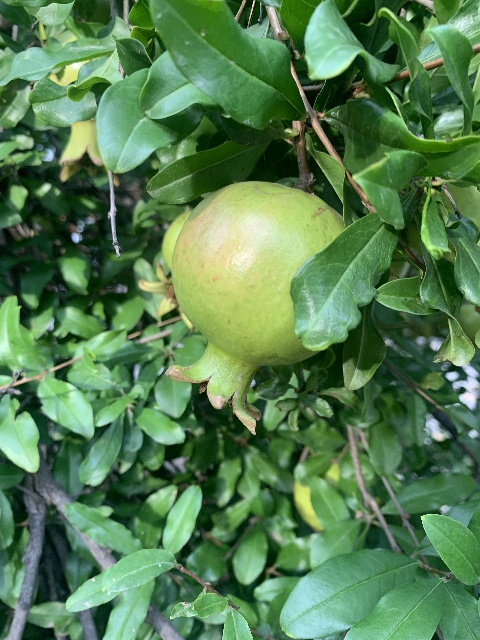mid-growth: (170, 179, 344, 434), (46, 59, 120, 187), (136, 208, 195, 332)
